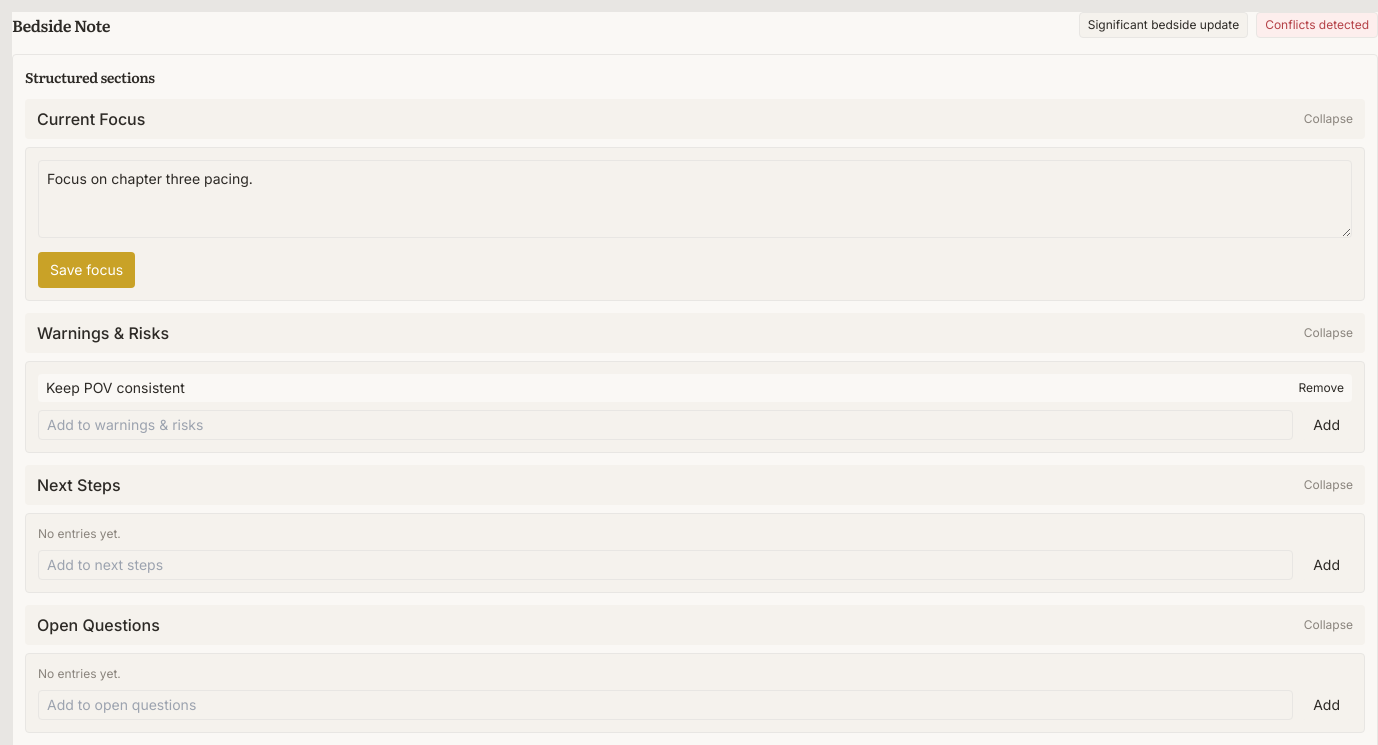
Test: BedsideNotePanel › shows error when adding a list item fails
Type "Do something" into the field with placeholder "Add to warnings & risks" at [666, 425], box top-left (38, 410), bottom-right (1293, 440)
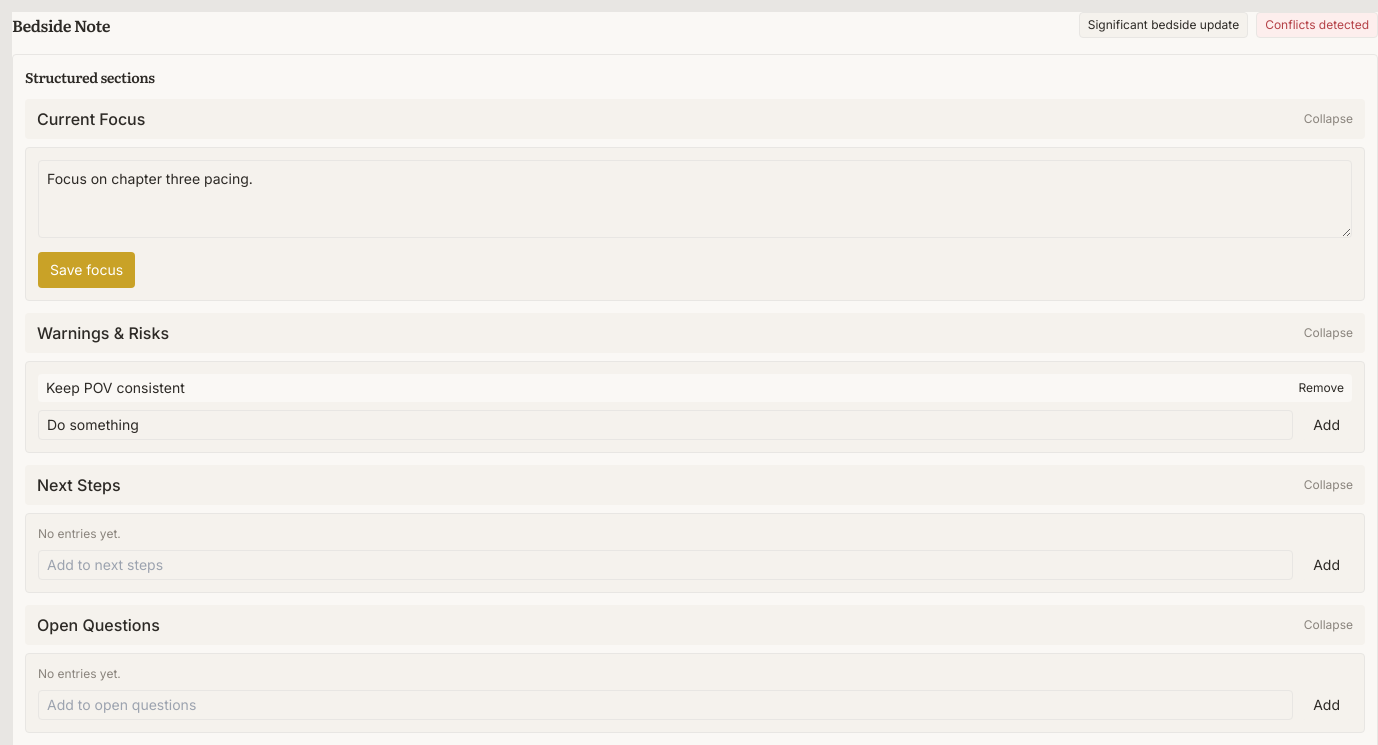
Click the 1st button "Add" at [1327, 425], box top-left (1301, 410), bottom-right (1352, 440)
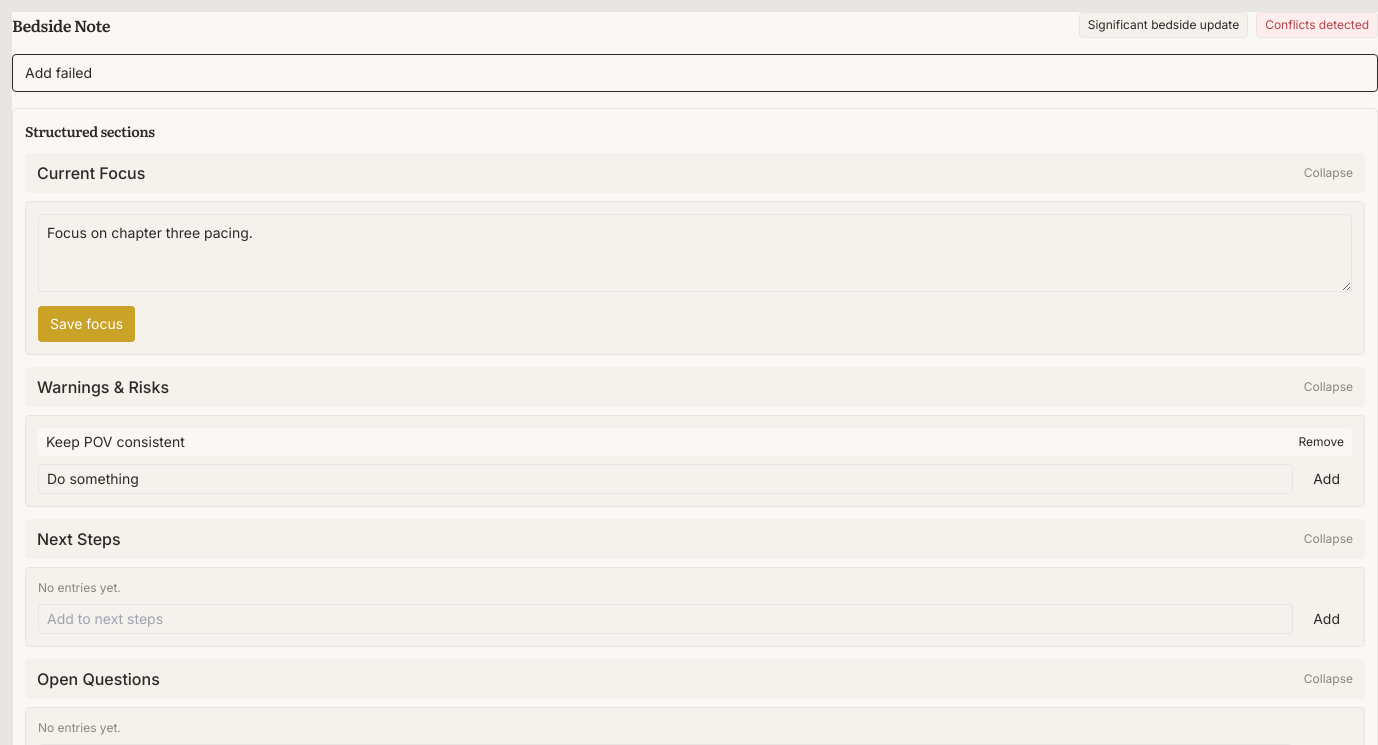
Now the text "Add failed" is shown, box top-left (12, 54), bottom-right (1377, 92)
